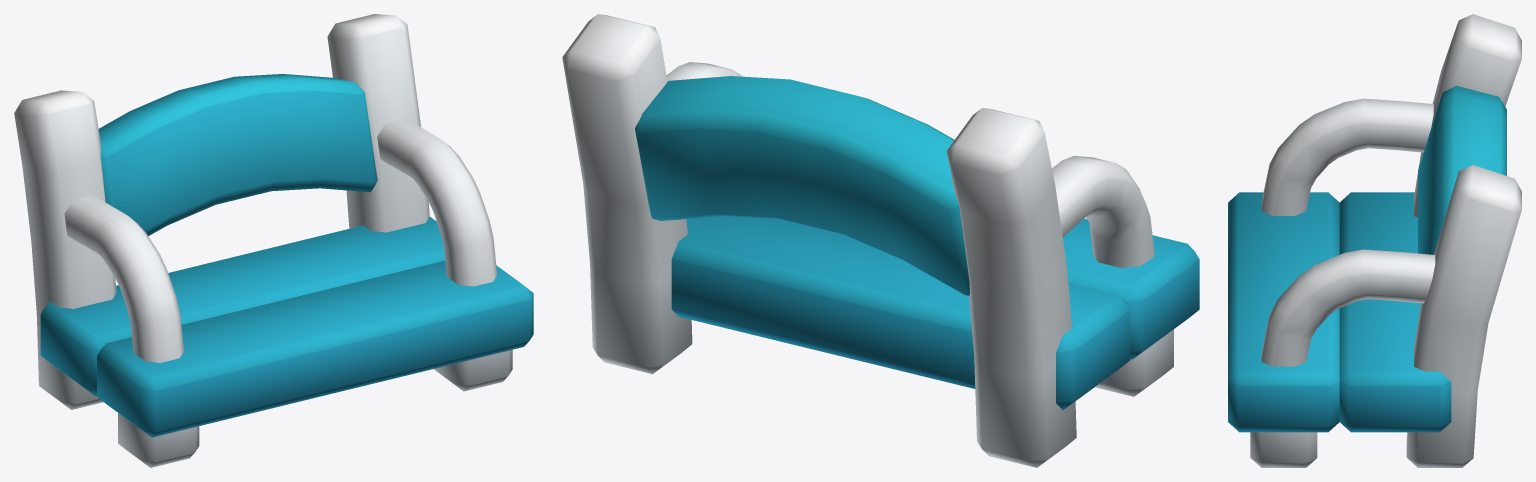
The model's file is bench_A.fbx.
3 views of the same model, side by side, from view 1: azimuth 30°, elevation 25°; view 2: azimuth 150°, elevation 25°; view 3: azimuth 270°, elevation 25° (orthographic). The views are drawn at different scales.
Parts seen in each view (by area): view 1: bench_A; view 2: bench_A; view 3: bench_A.
Part boxes in pixels (x1,y1,x2,y2): bench_A: (14, 14, 533, 467); bench_A: (562, 14, 1199, 467); bench_A: (1228, 14, 1521, 467).
Bounding box in the file's own units: 200 × 141 × 132.
